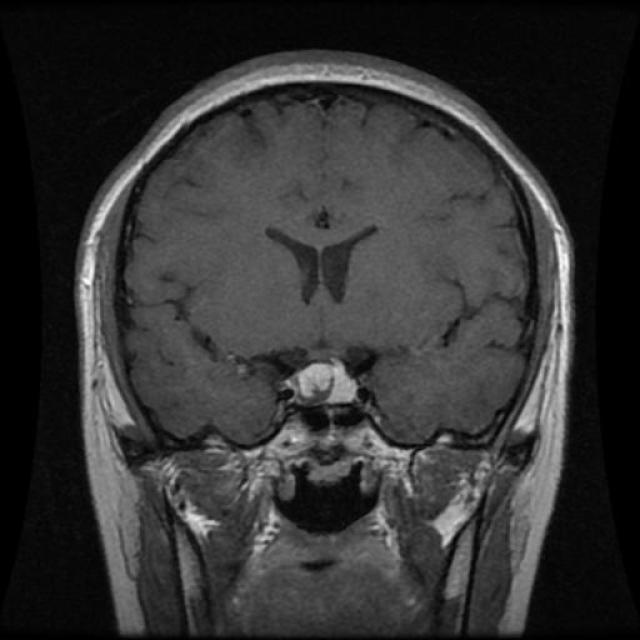pituitary: (294, 352, 361, 414)
